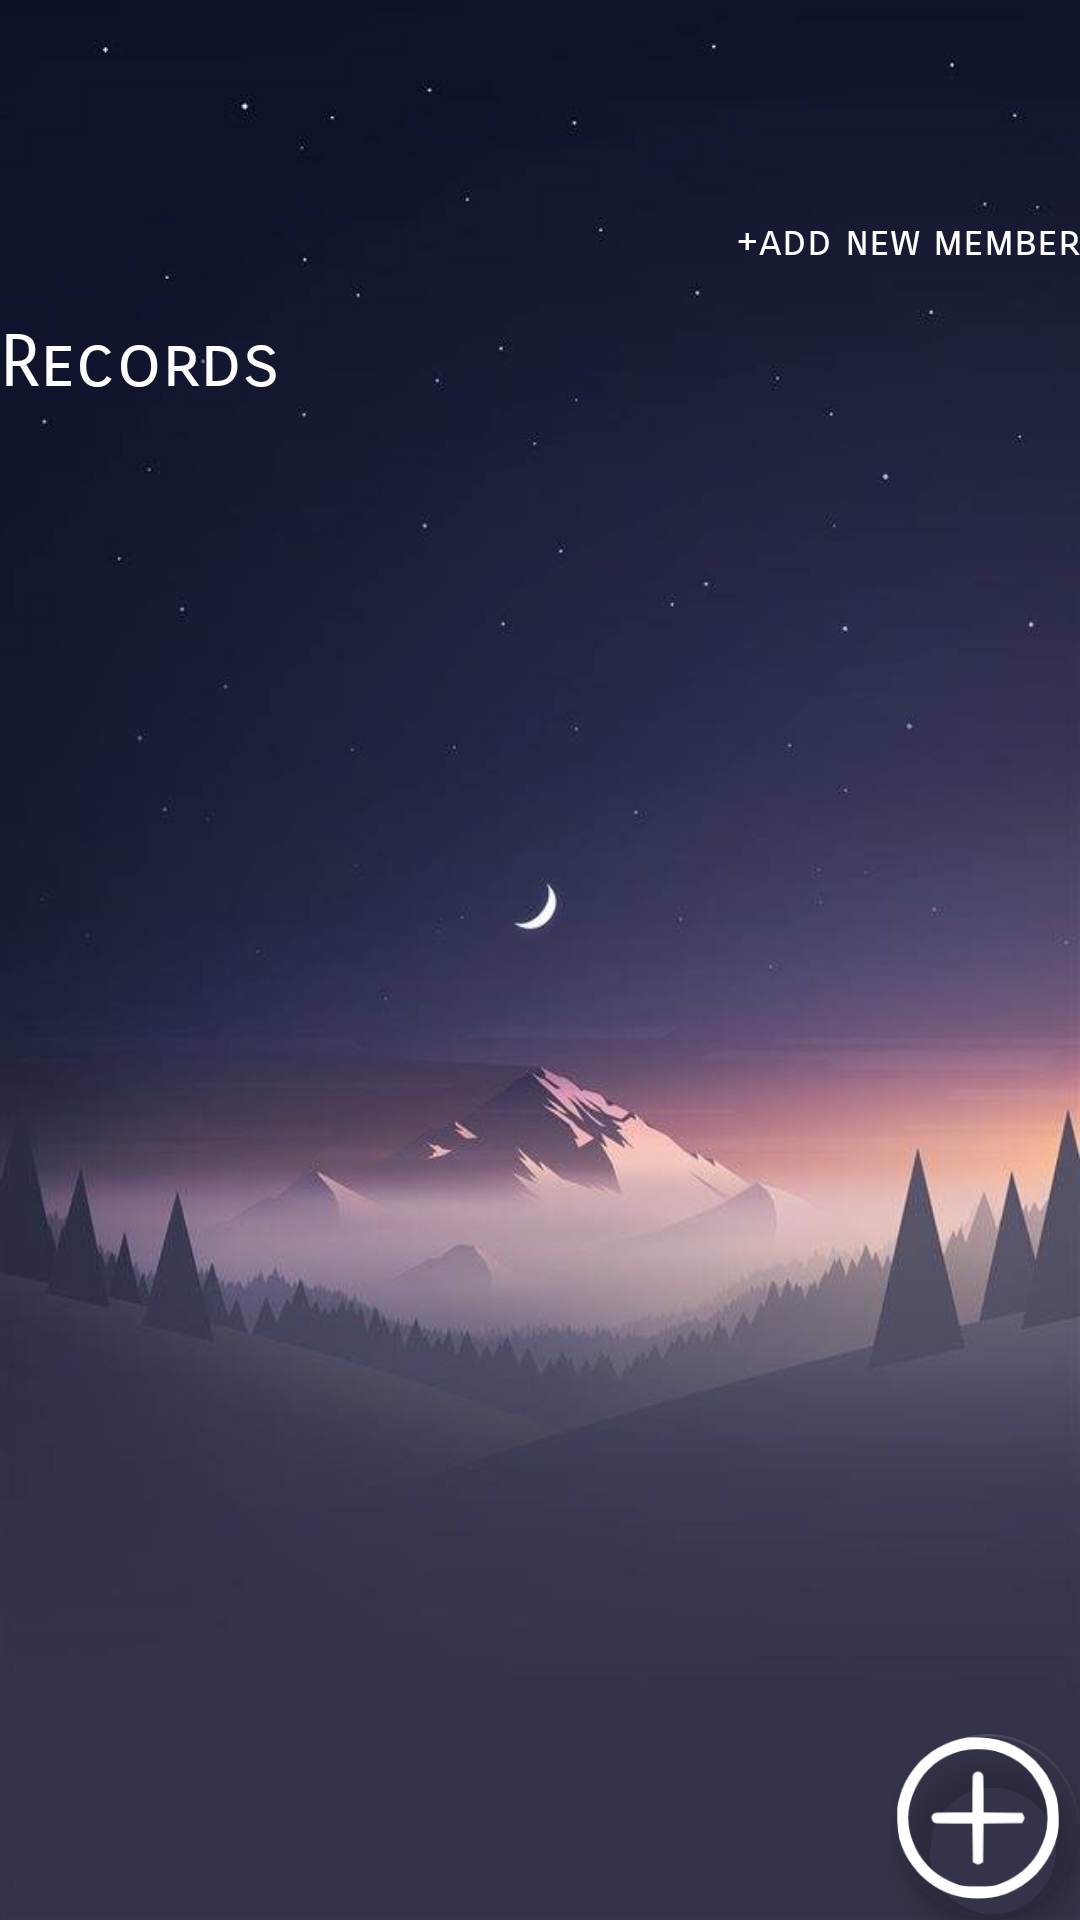

Where icons sit on this 1080x1920 app screen, as detection(x1, y1, x2, y2):
add: detection(897, 1734, 1059, 1899)
